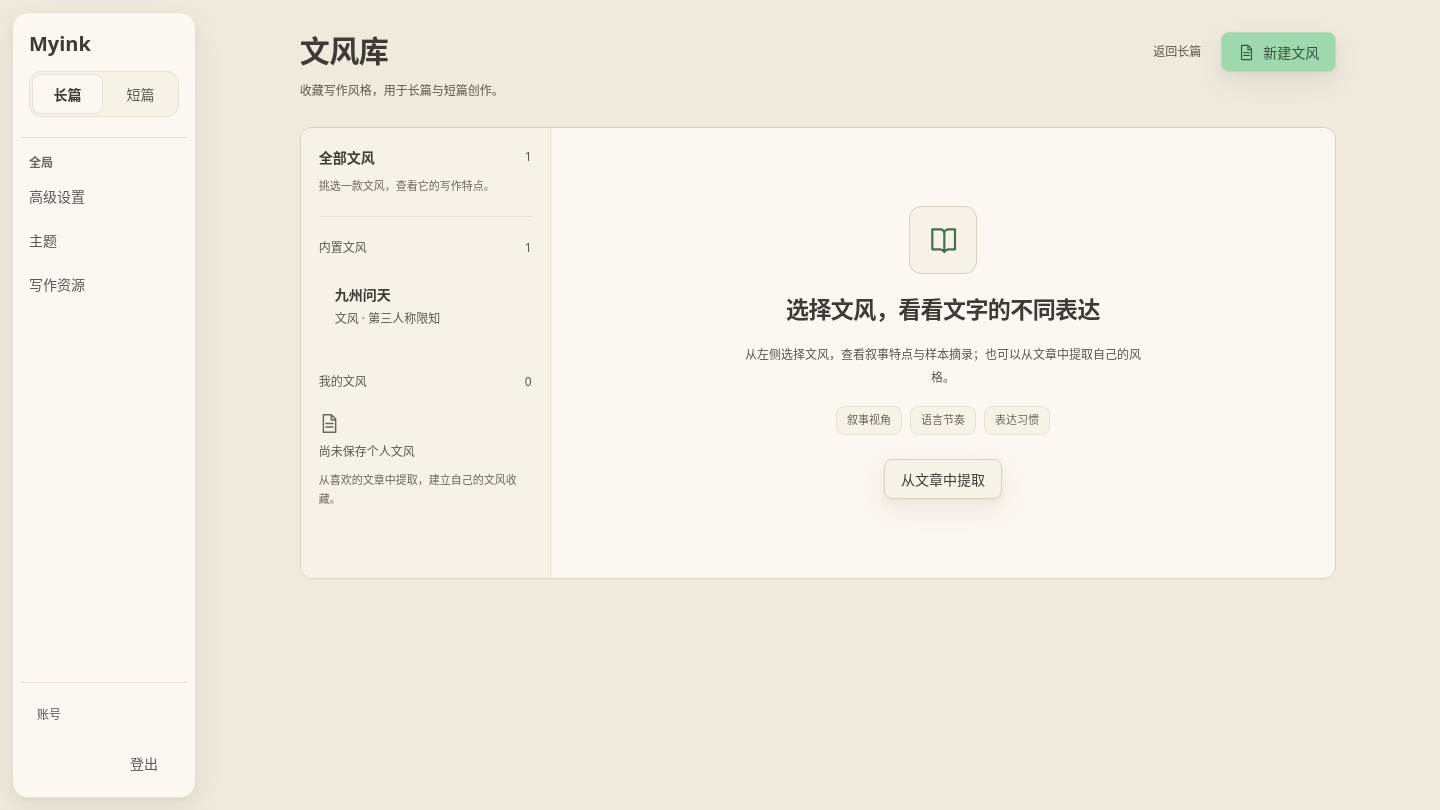
Test case: lists the builtins first and reads their profile back as prose
This screenshot has width=1440, height=810.
Click the button "九州问天 文风 · 第三人称限知" at (425, 307), box [319,269,532,345]
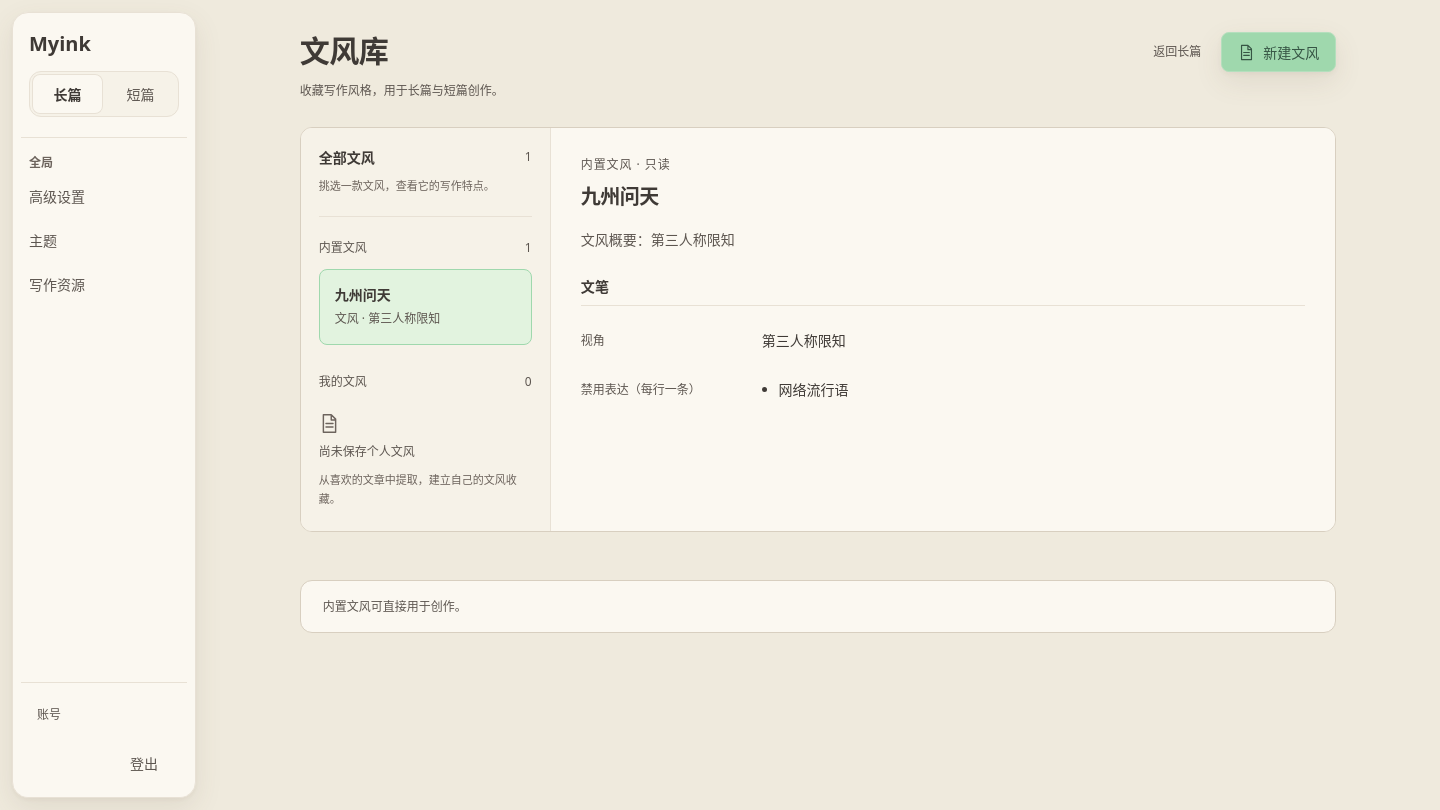
Expected: the text "第三人称限知" is shown, [762,331,846,350]
Expected: the text "禁用表达（每行一条）" is shown, [581,381,701,398]
Expected: the list item "网络流行语" is shown, [778,380,848,399]
